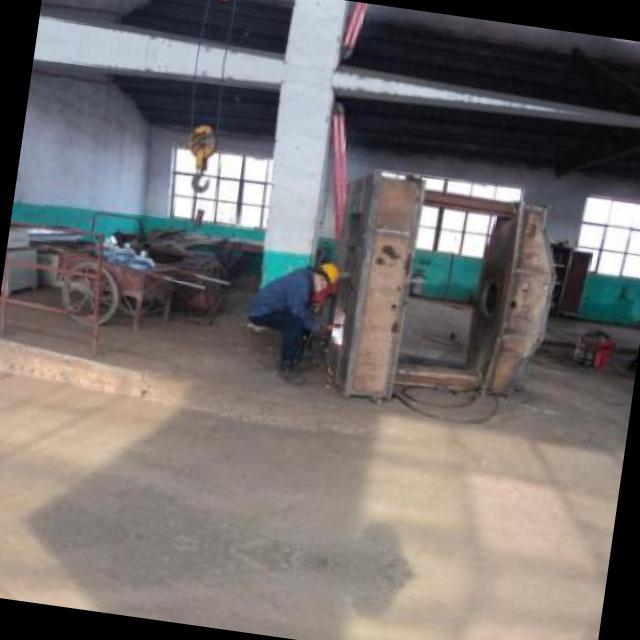helmet: (310, 258, 342, 298)
